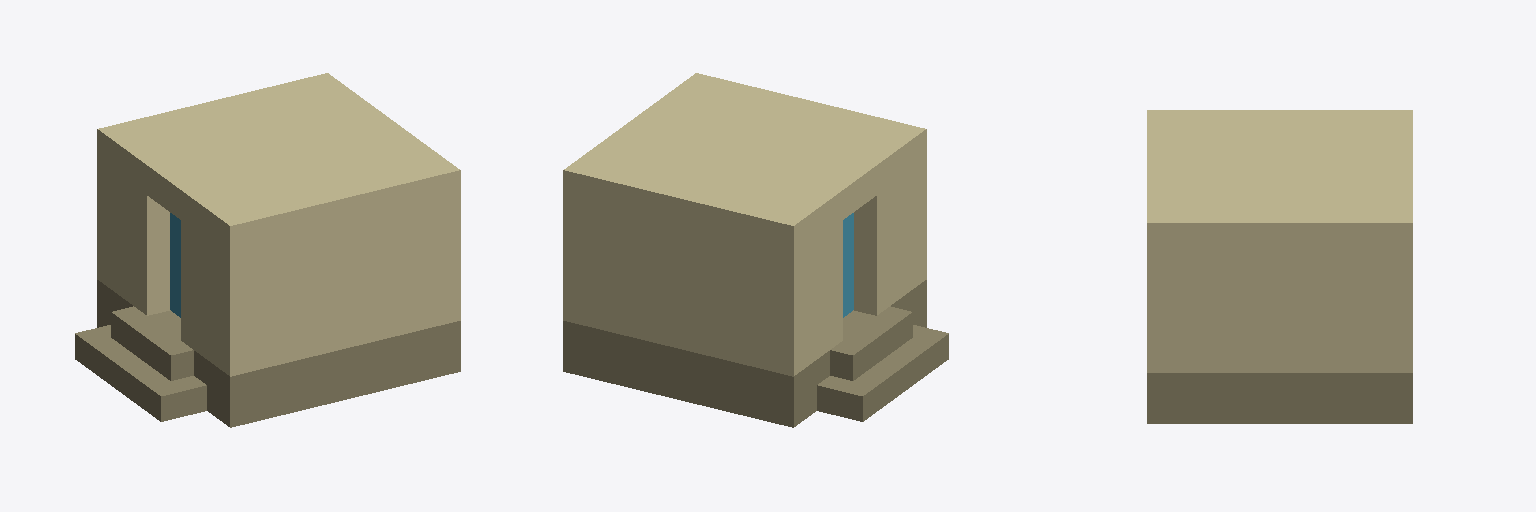
The picture shows the model from 3 angles: view 1: azimuth 30°, elevation 25°; view 2: azimuth 150°, elevation 25°; view 3: azimuth 270°, elevation 25°; orthographic projection.
Parts seen in each view (by area): view 1: G-__555789_G-__555789_Brick, G-__555789_G-__555789_Dark_brick, G-__555789_G-__555789_Glass; view 2: G-__555789_G-__555789_Brick, G-__555789_G-__555789_Dark_brick, G-__555789_G-__555789_Glass; view 3: G-__555789_G-__555789_Brick, G-__555789_G-__555789_Dark_brick.
Part boxes in pixels (bbox=[...]): G-__555789_G-__555789_Brick: bbox=[97, 73, 460, 376]; G-__555789_G-__555789_Dark_brick: bbox=[75, 280, 460, 427]; G-__555789_G-__555789_Glass: bbox=[170, 213, 180, 317]; G-__555789_G-__555789_Brick: bbox=[563, 73, 926, 376]; G-__555789_G-__555789_Dark_brick: bbox=[563, 280, 948, 427]; G-__555789_G-__555789_Glass: bbox=[843, 213, 853, 317]; G-__555789_G-__555789_Brick: bbox=[1147, 110, 1412, 372]; G-__555789_G-__555789_Dark_brick: bbox=[1147, 373, 1412, 423].
Bounding box in the file's own units: 1.2 × 0.8375 × 1.